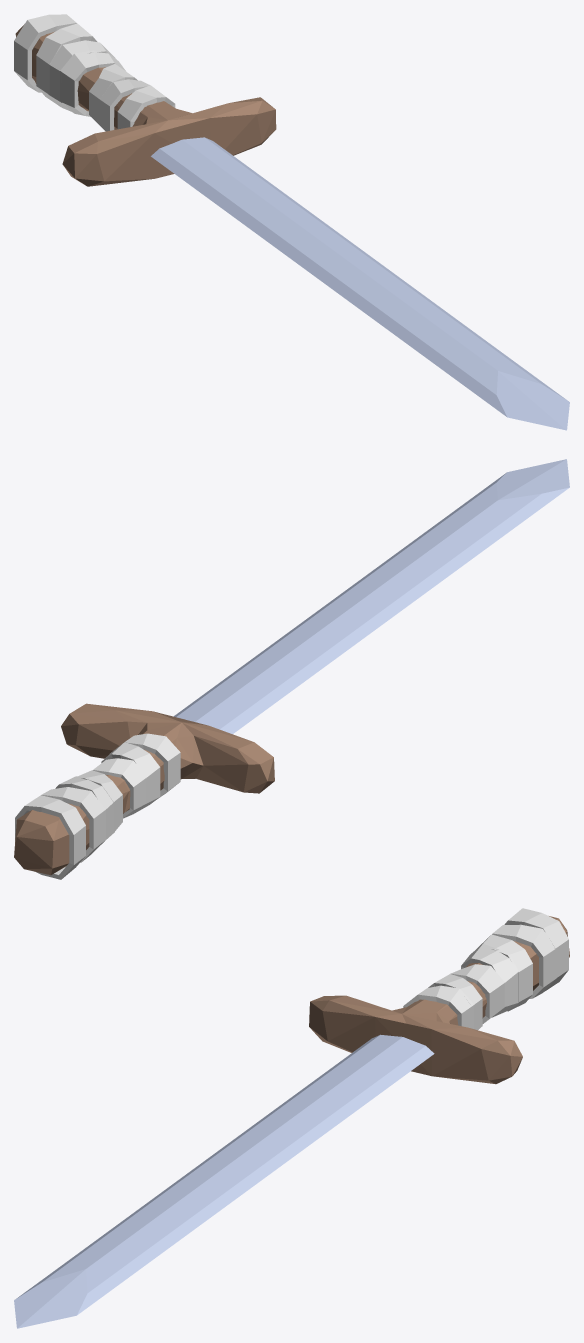
File: IronSword.fbx
3 views of the same model, one above another, from view 1: azimuth 30°, elevation 25°; view 2: azimuth 150°, elevation 25°; view 3: azimuth 330°, elevation 25° (orthographic).
Parts seen in each view (by area): view 1: Sword; view 2: Sword; view 3: Sword.
Part boxes in pixels (bbox=[...]): Sword: bbox=[14, 14, 569, 430]; Sword: bbox=[14, 459, 569, 879]; Sword: bbox=[14, 908, 569, 1328].
Bounding box in the file's own units: 180 × 56.46 × 809.
